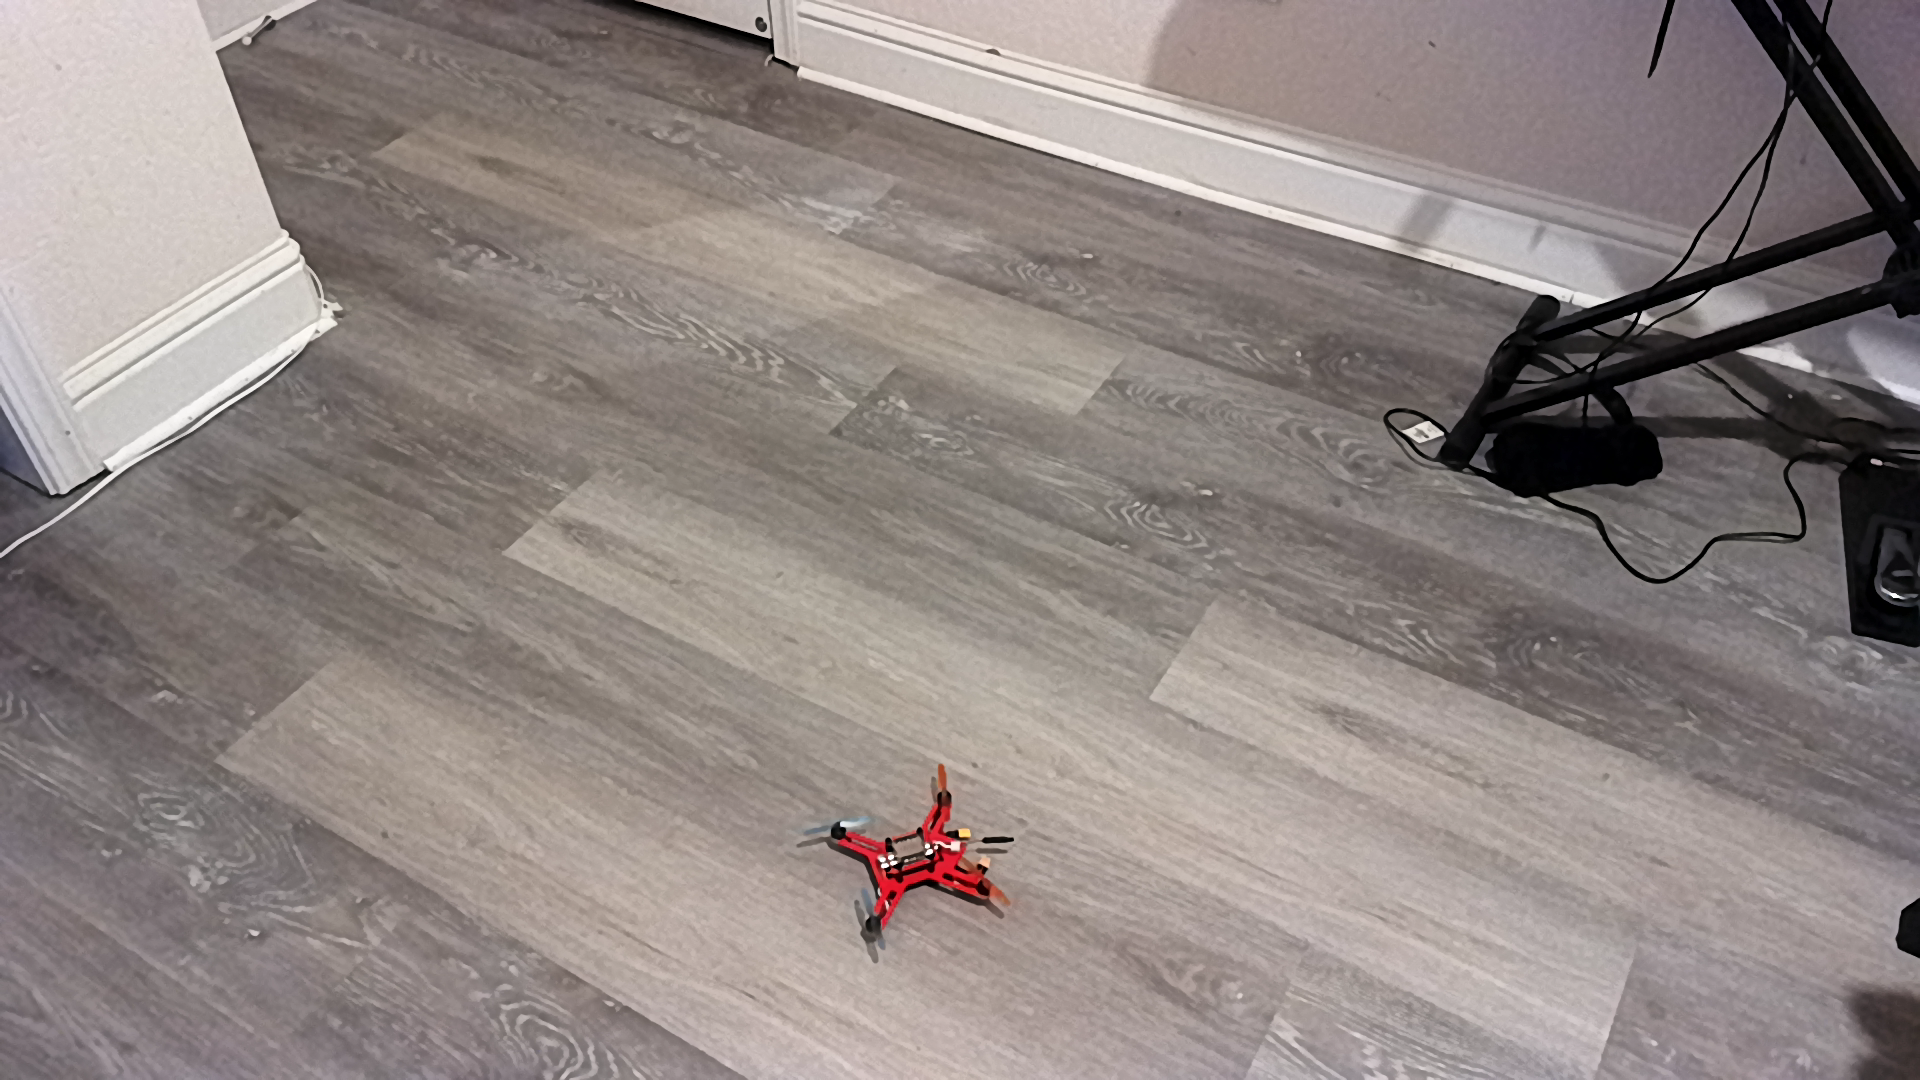drone: (800, 761, 1036, 961)
